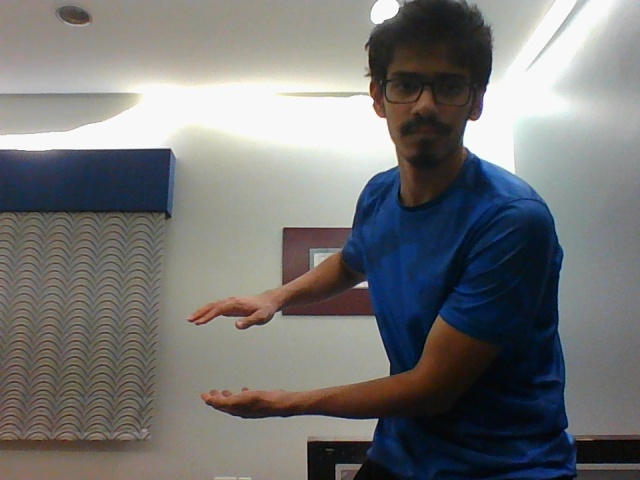charge: (186, 281, 297, 422)
